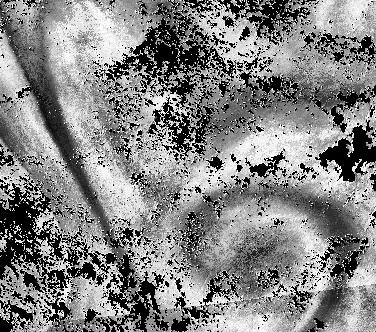CE: (175, 178, 361, 317)
